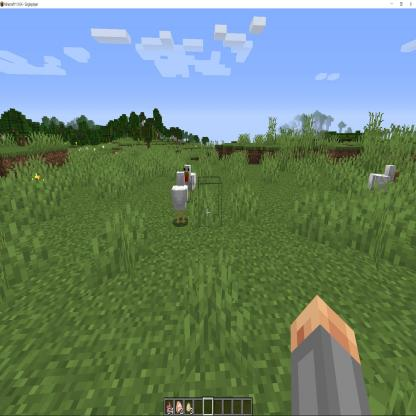minecraft-pigs: (366, 158, 400, 209), (173, 170, 189, 222), (183, 162, 196, 200)
